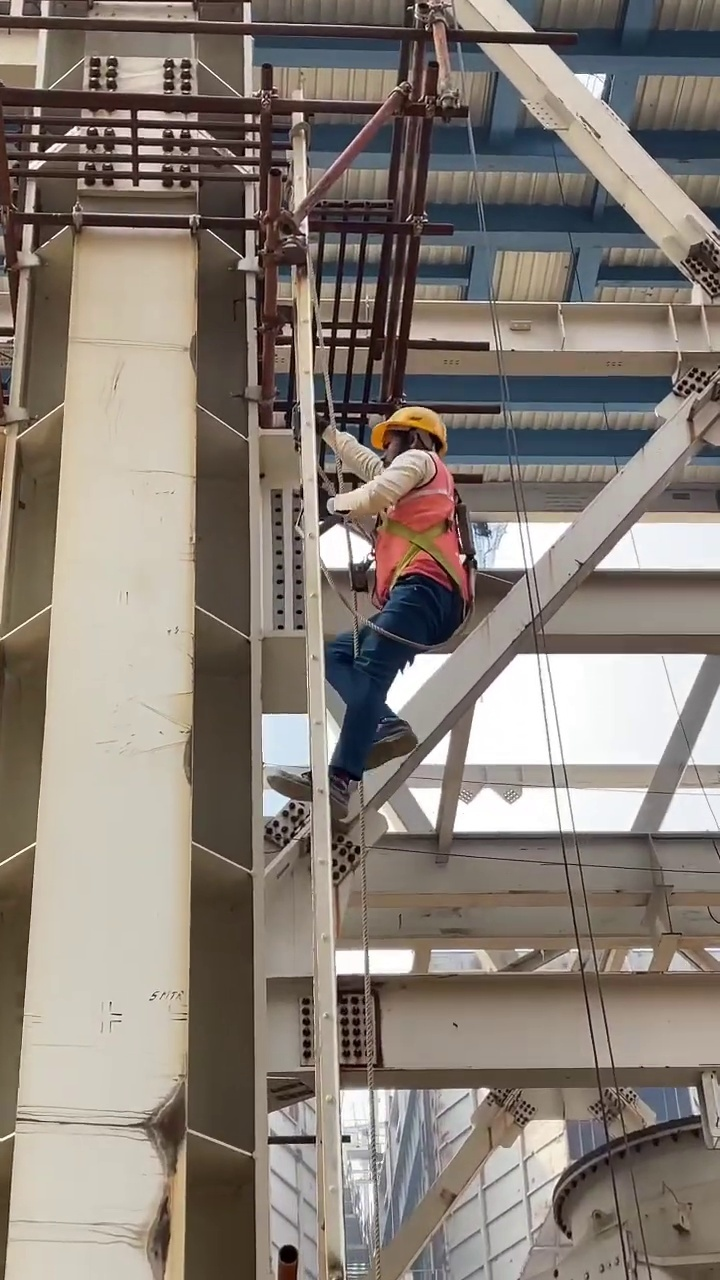Helmet: (373, 407, 451, 451)
Person: (263, 406, 472, 820)
Safety_Harness: (339, 456, 475, 653)
Safety_shoes: (268, 767, 350, 817), (358, 713, 419, 766)
